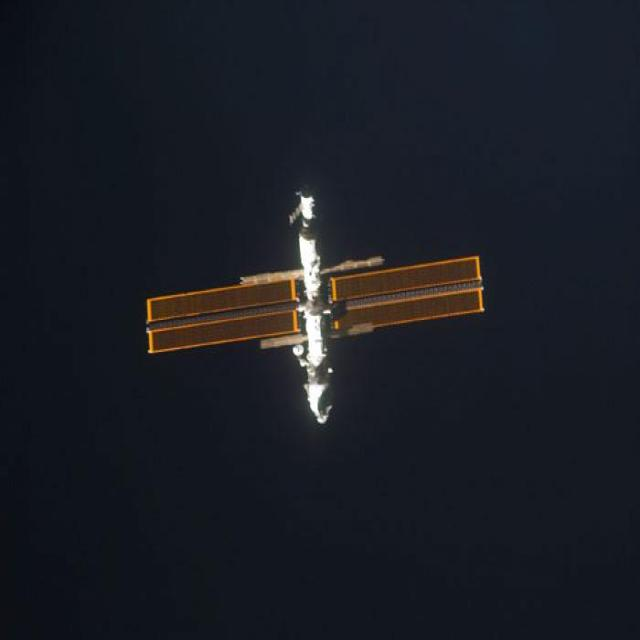medium_debris: (146, 193, 482, 423)
